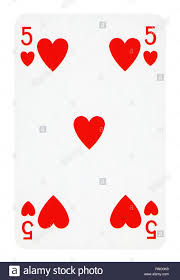five of hearts: (15, 15, 166, 248)
